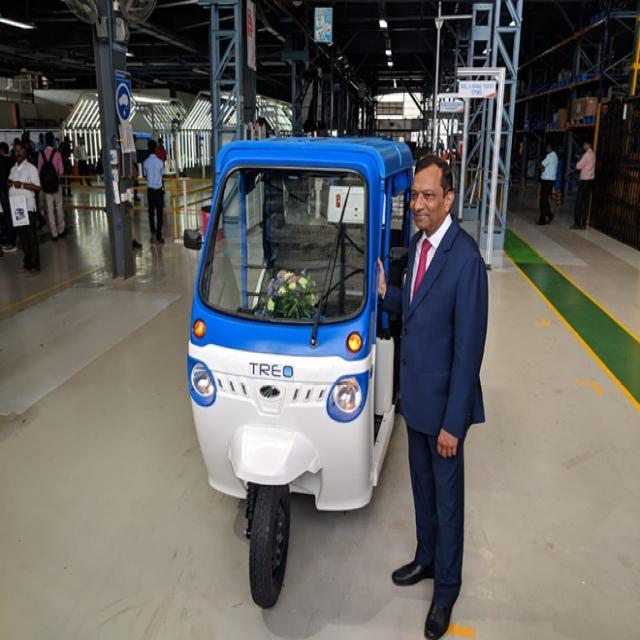autorickshaw: (188, 138, 414, 607)
